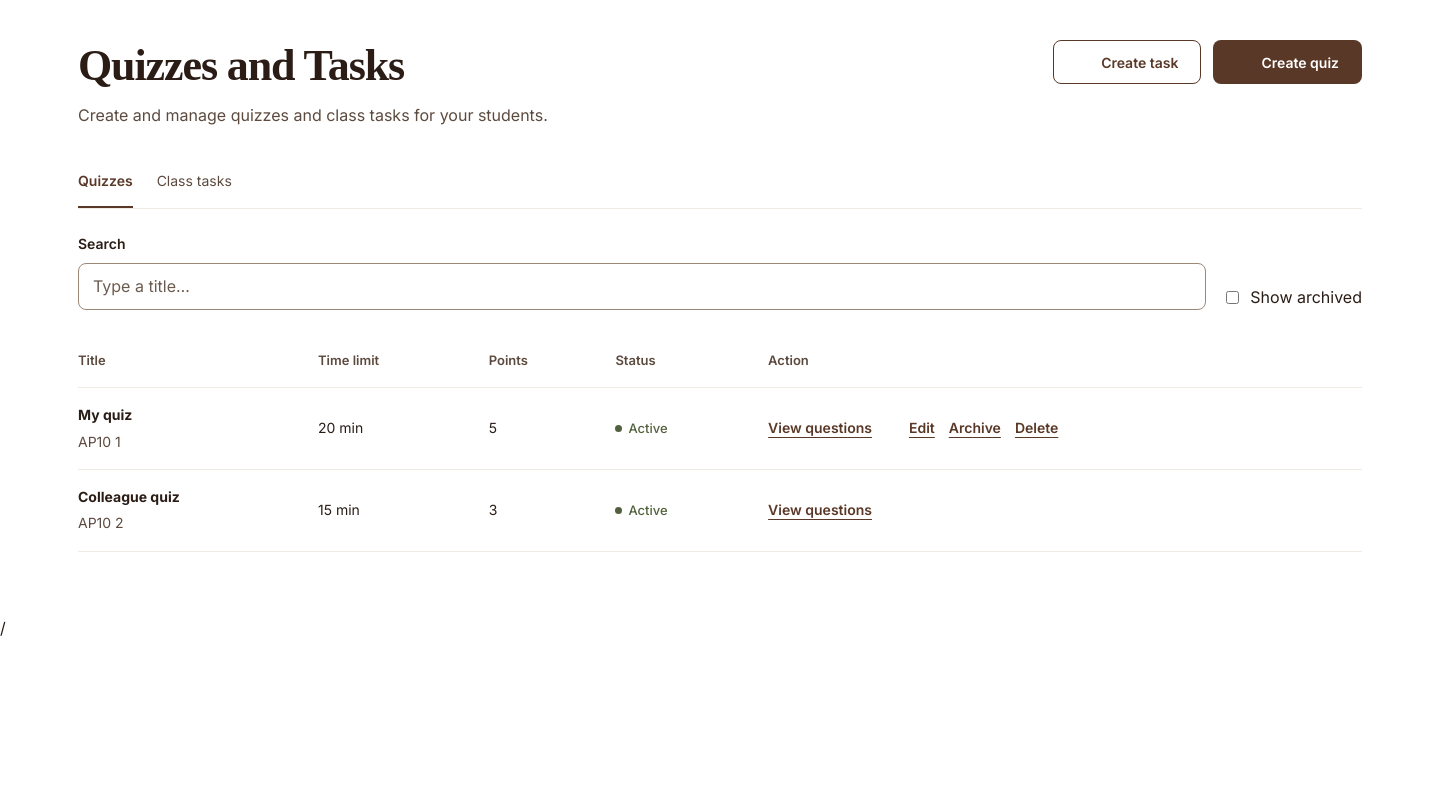
Test: AssessmentsPage › edits a task, locking points and topic once students have submitted
Check: the text "My quiz" is shown, box [78,406,132,423]
Click the button "Class tasks": (194, 184) [157,160,232,208]
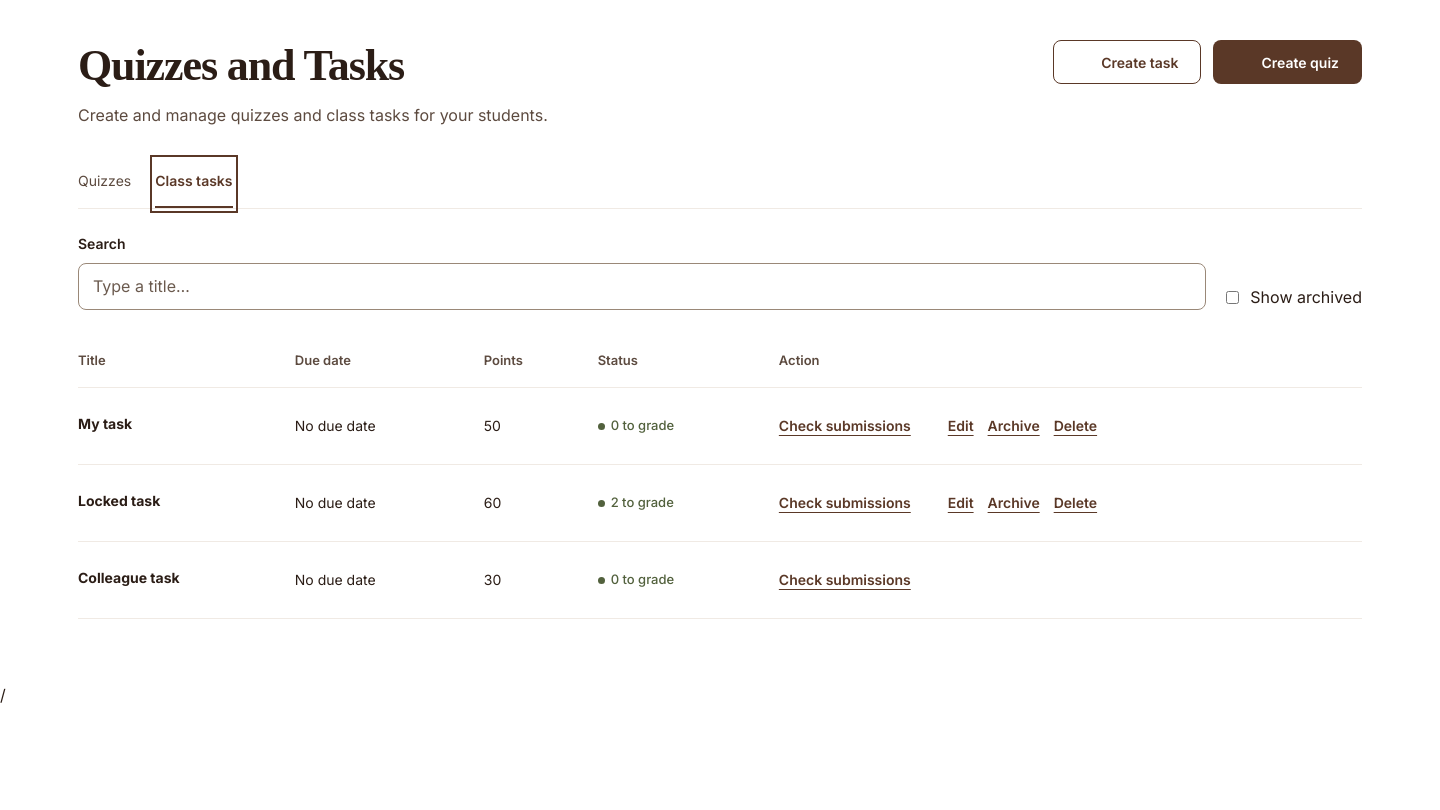
Click the button "Edit" in the row of "Locked task": (961, 503) [948,481,974,525]
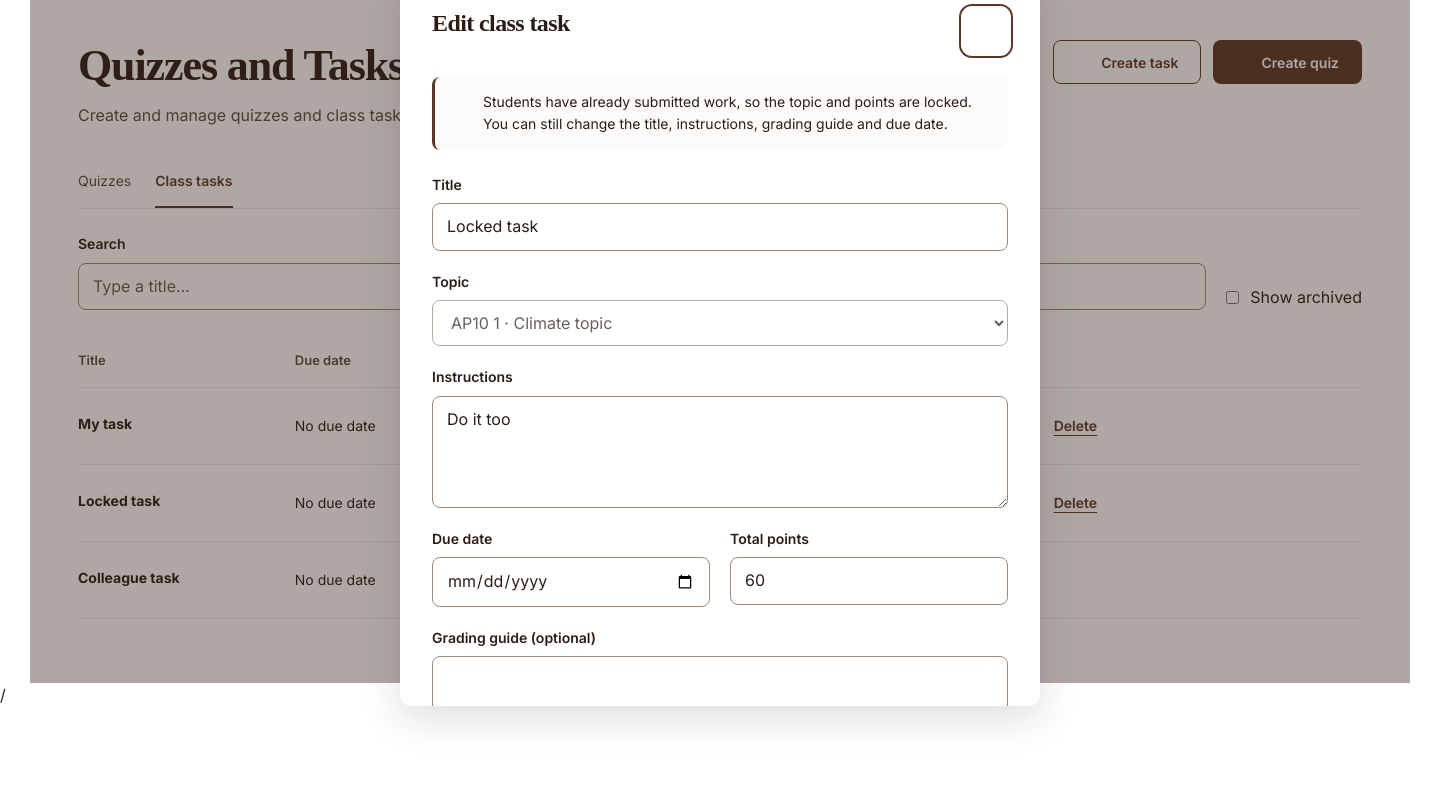
Check: the dropdown labelled "Topic" is disabled, box [432,300,1008,346]
Check: the number field labelled "Total points" is disabled, box [730,557,1008,605]
Replace the text in the field labelled "Title" with "Renamed task": (720, 227) [432,203,1008,251]
(page scrolled)
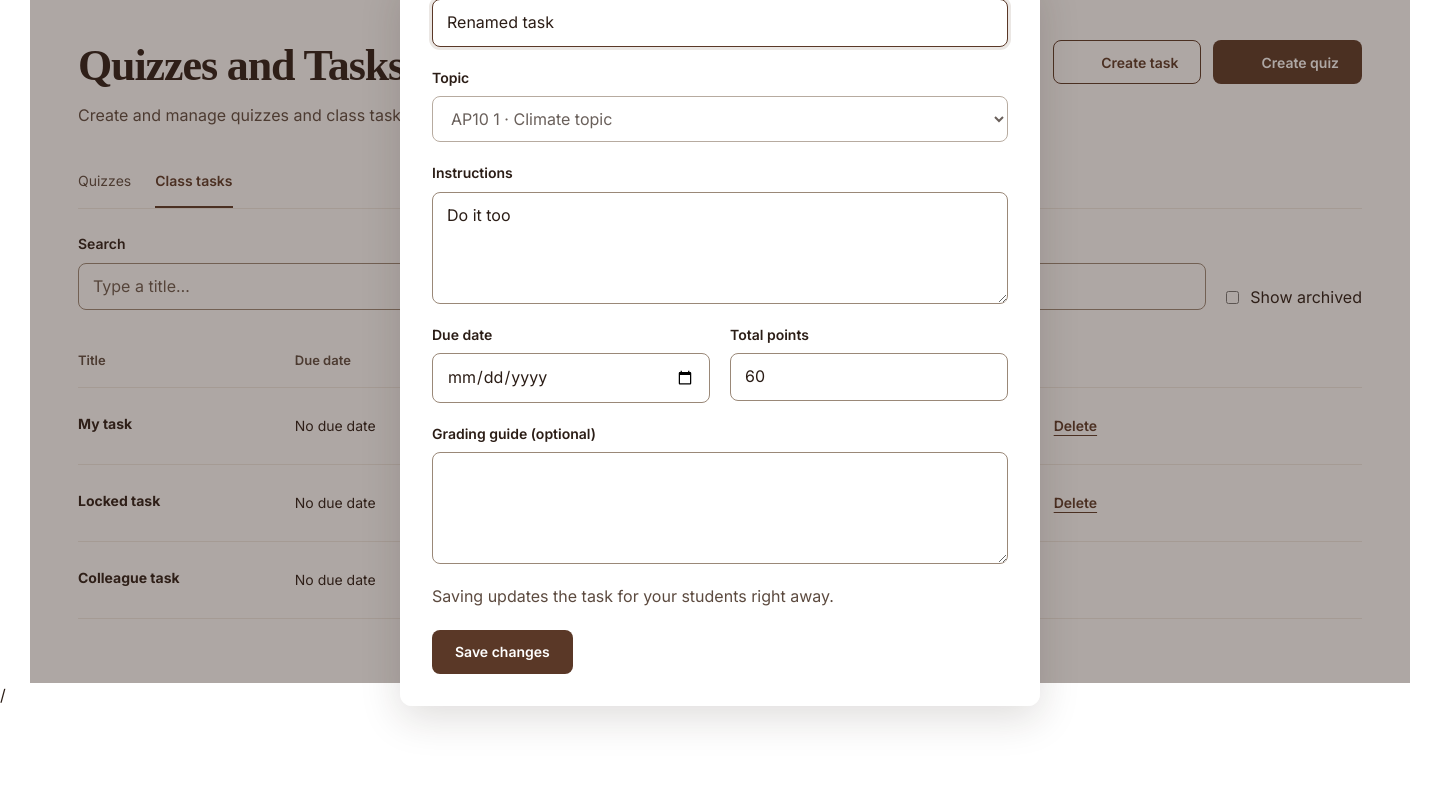
Click the button "Save changes": (502, 652) [432,630,573,674]
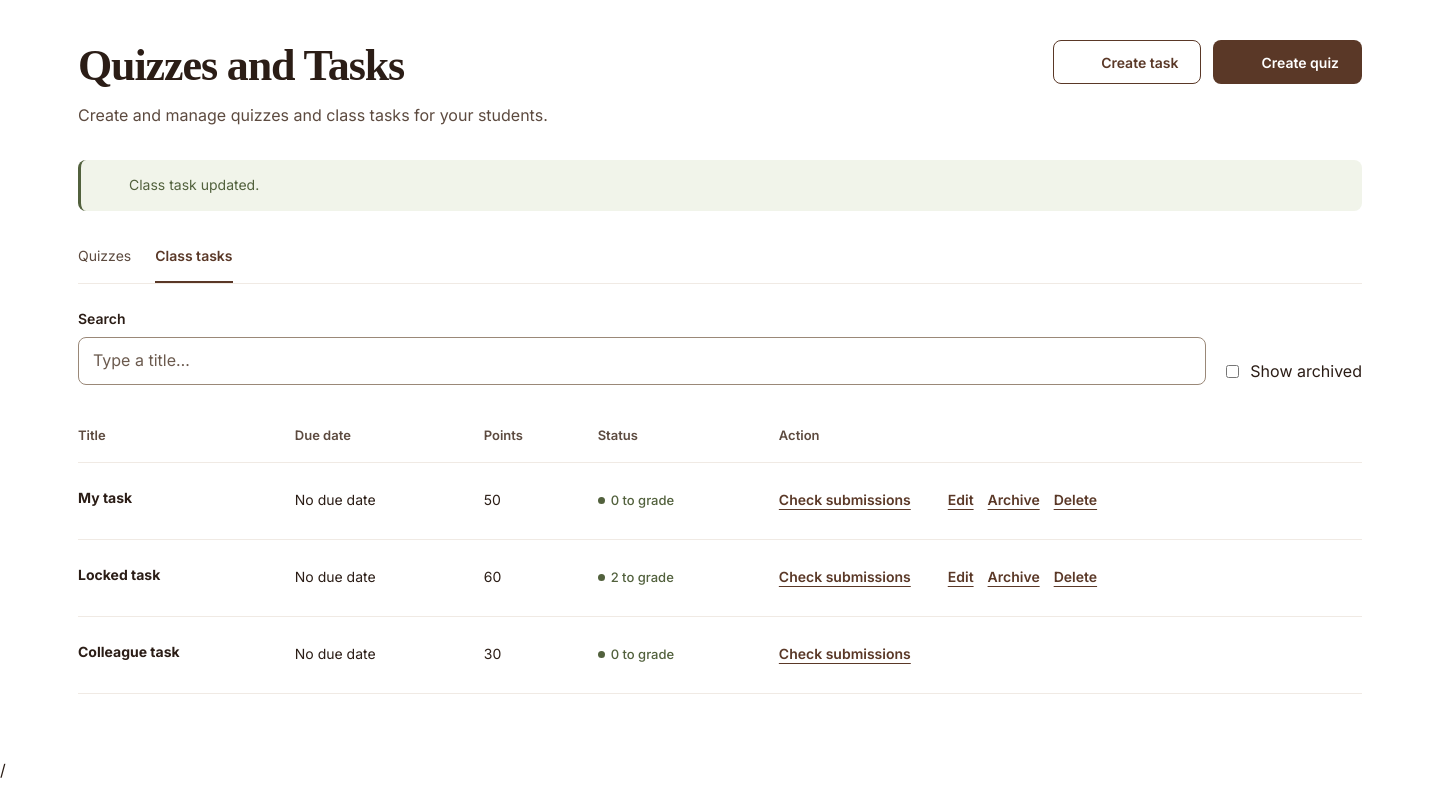
Check: the text "Class task updated." is shown, box [129,174,259,197]
